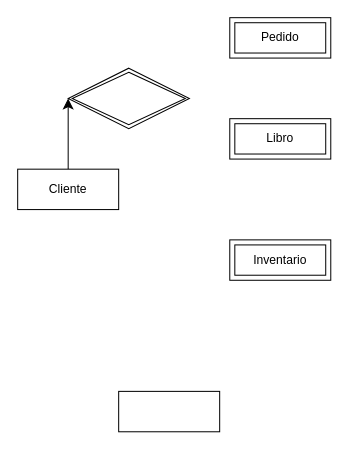
This 348x449 diagram has some shape labels left out. Each missing label, with the centre of its shape:
"Compra" goes at point (128, 98).
"Editorial" goes at point (169, 411).
